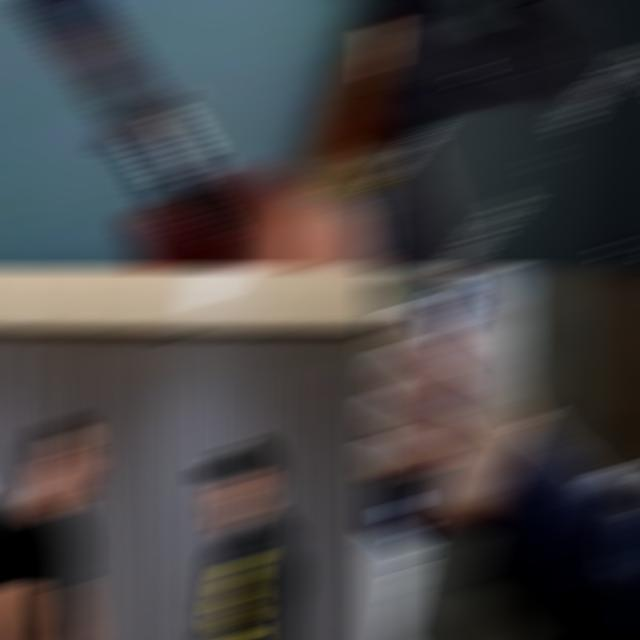Knife: (368, 480, 442, 638)
Knife_Handle: (0, 2, 386, 266), (368, 270, 530, 638)
